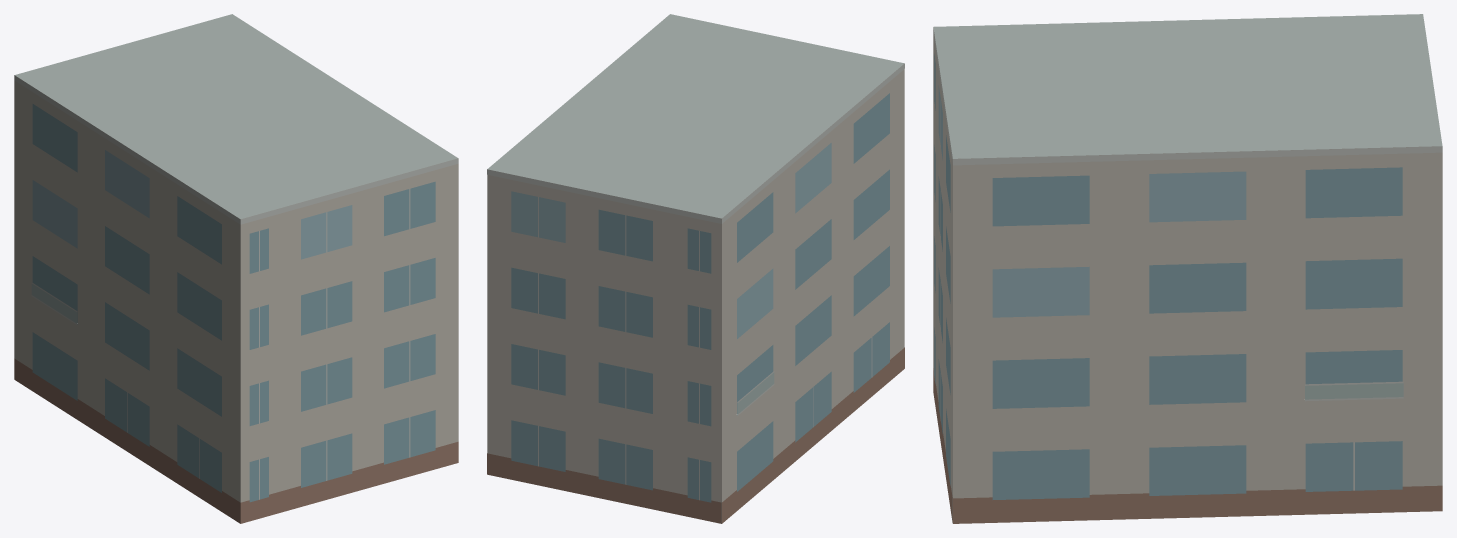
Rendered from survey-upis-32908526.glb.
The picture shows the model from 3 angles, left to right: view 1: azimuth 30°, elevation 25°; view 2: azimuth 150°, elevation 25°; view 3: azimuth 270°, elevation 25°; orthographic projection. The views are drawn at different scales.
Visible parts, largest first — view 1: survey-upis-32908526.tmp; view 2: survey-upis-32908526.tmp; view 3: survey-upis-32908526.tmp.
Part boxes in pixels (<box>): survey-upis-32908526.tmp: <box>14,14,458,523</box>; survey-upis-32908526.tmp: <box>487,14,904,523</box>; survey-upis-32908526.tmp: <box>933,14,1442,523</box>.
Size of the model in its own units: 11.73 by 13.76 by 17.41.
